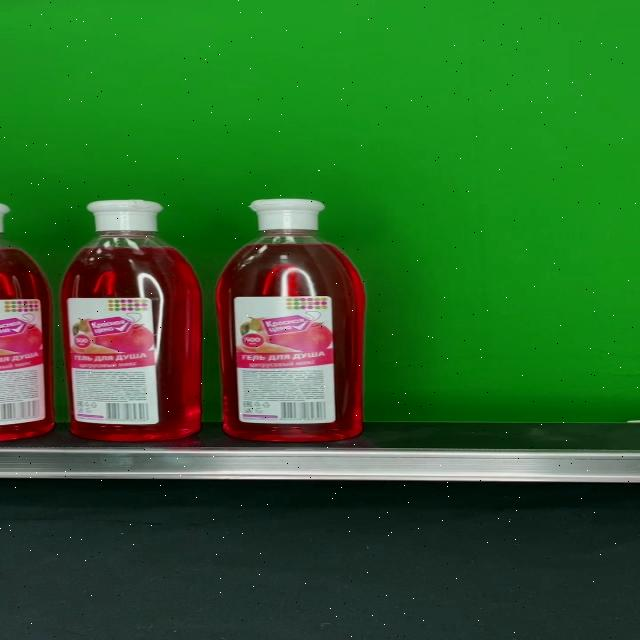Bottle: (217, 199, 365, 441), (60, 200, 201, 442)
Cap: (85, 200, 162, 232), (248, 198, 324, 230)
